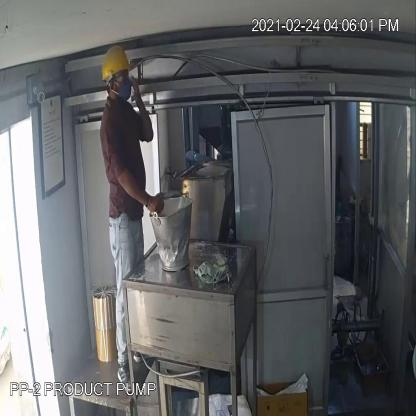helmet: (100, 41, 132, 88)
